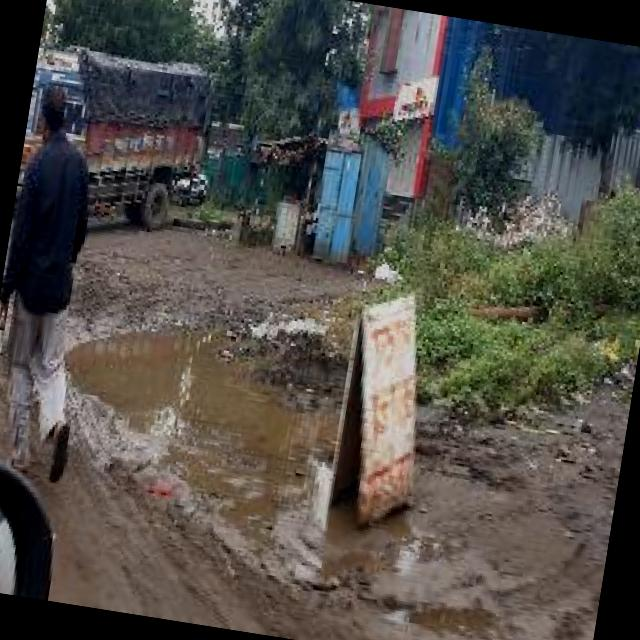stagnation: (32, 270, 332, 536)
